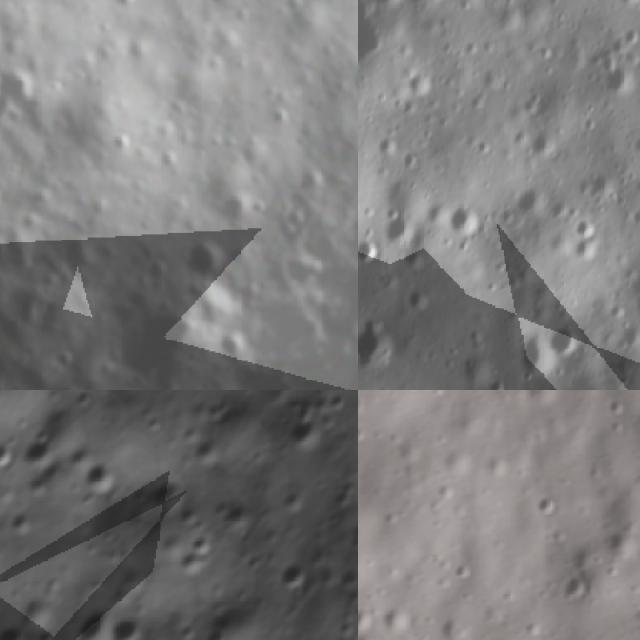crater: (107, 305, 213, 390), (167, 223, 235, 292), (0, 56, 57, 136), (62, 598, 124, 640), (77, 452, 126, 502), (280, 406, 329, 456), (358, 314, 400, 371), (16, 428, 64, 477), (270, 550, 317, 599), (183, 430, 230, 476), (513, 329, 555, 380), (146, 471, 190, 517), (103, 606, 152, 640), (174, 544, 213, 582), (274, 484, 312, 522), (446, 200, 482, 237), (545, 319, 581, 356), (380, 208, 415, 246), (598, 58, 634, 94), (5, 504, 41, 539), (524, 127, 560, 161), (184, 528, 219, 562), (514, 181, 546, 216), (0, 436, 23, 477), (0, 614, 31, 640), (572, 233, 600, 261), (358, 235, 383, 264), (408, 70, 433, 99), (193, 622, 232, 640), (376, 130, 398, 161), (404, 283, 430, 308), (570, 216, 598, 238), (188, 0, 234, 11), (628, 290, 640, 319), (630, 130, 640, 159), (614, 0, 640, 10)
